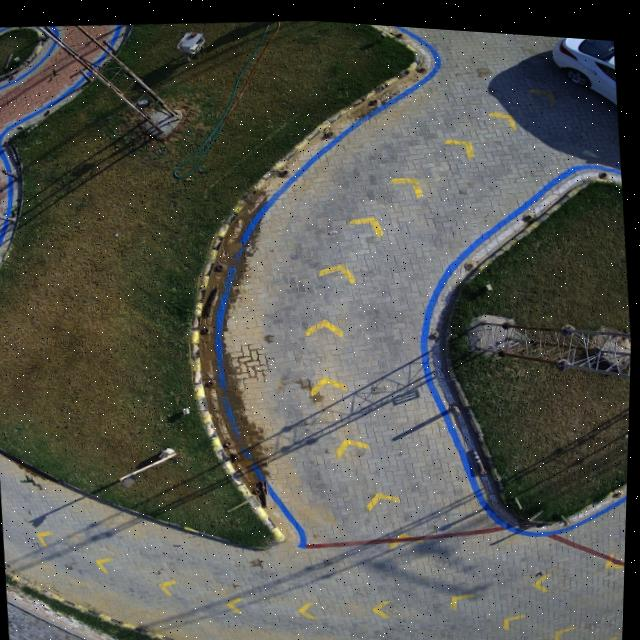car: (551, 29, 617, 95)
